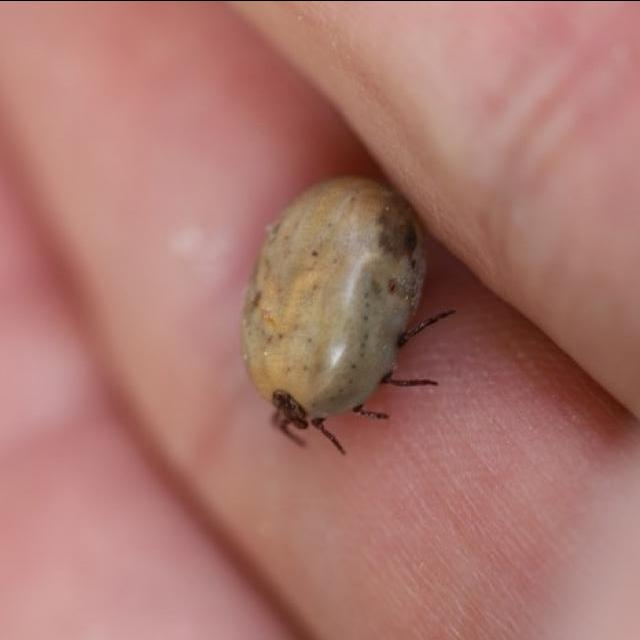Dermacentor Reticulatus-F-Fed: (240, 174, 456, 457)
